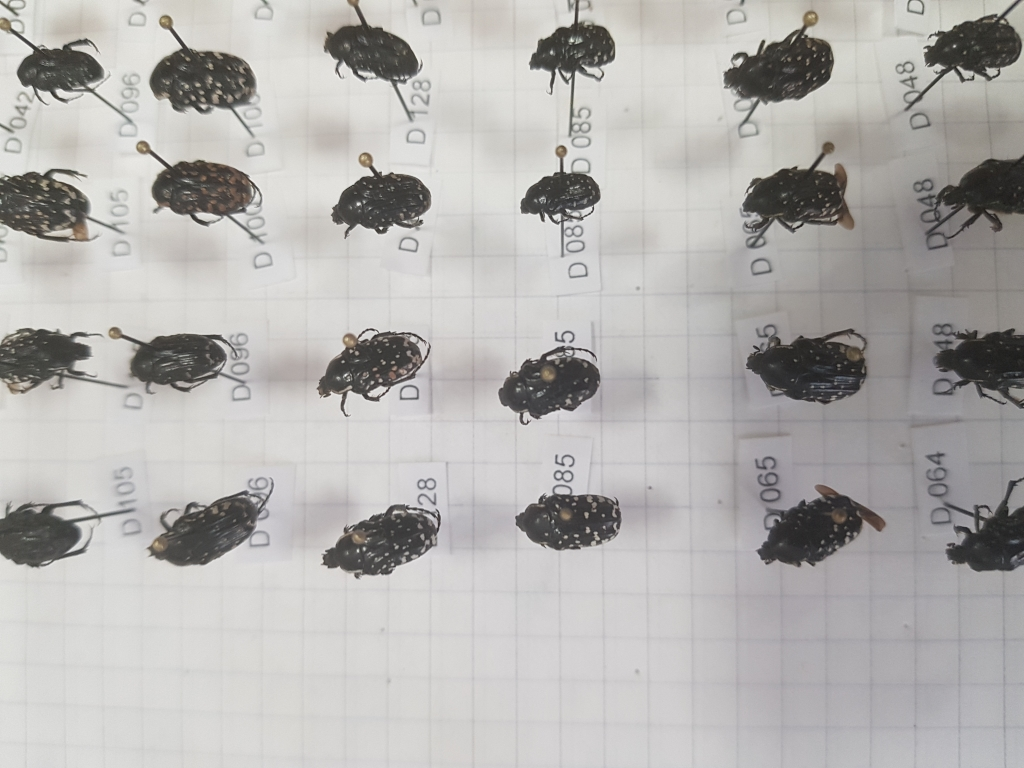Oxythyrea_cinctella: (319, 498, 447, 580), (305, 328, 429, 406), (511, 488, 626, 551)
